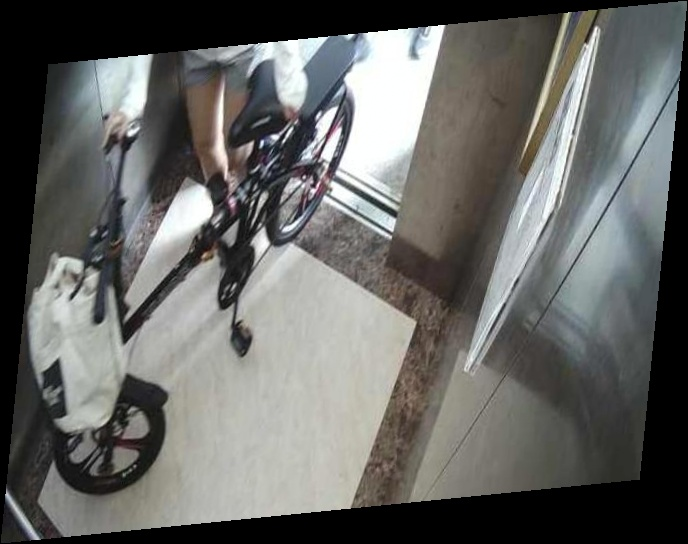bicycle: (28, 39, 366, 489)
